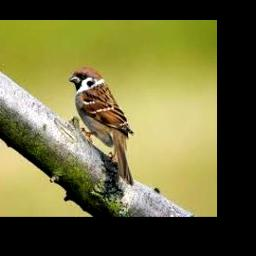Sparrow: (69, 68, 134, 185)
